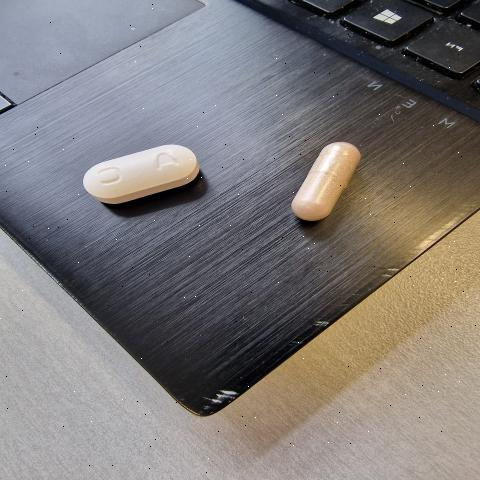Pill: (70, 114, 214, 217), (274, 119, 386, 237)
